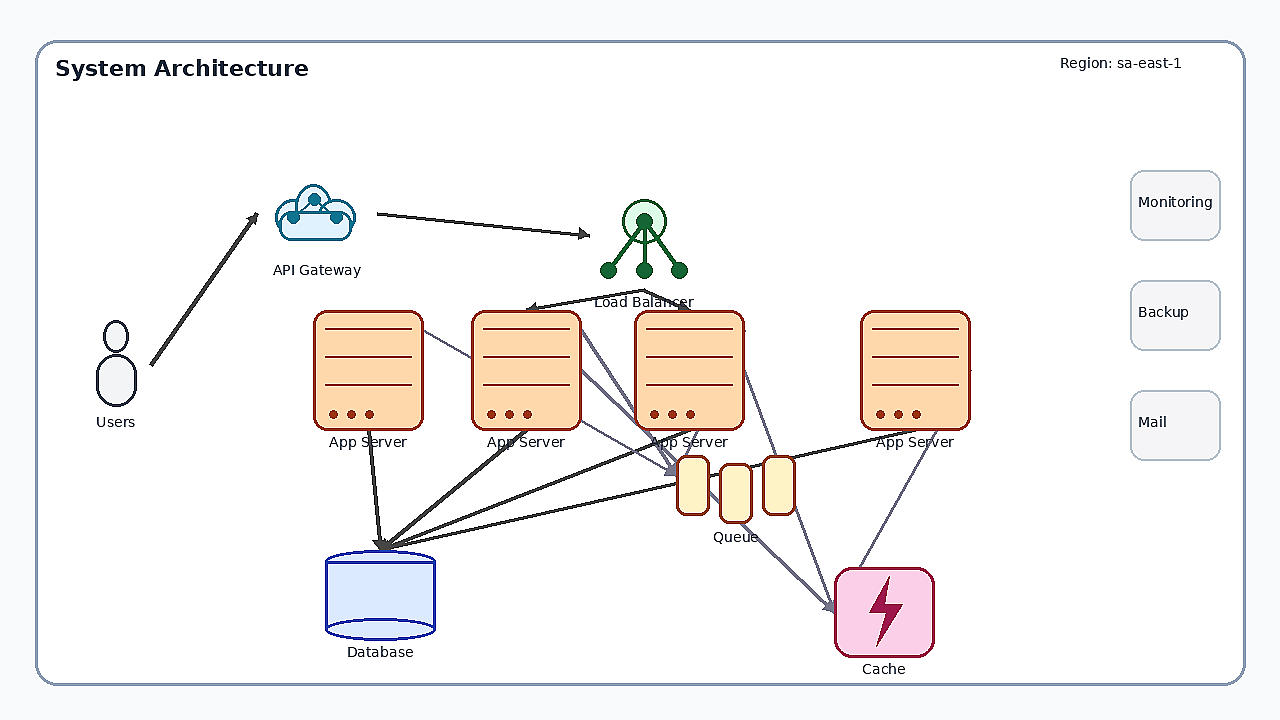API Gateway: (257, 168, 377, 258)
Application Server: (860, 310, 970, 430), (471, 310, 581, 430), (634, 310, 744, 430), (313, 310, 423, 430)
Cache: (834, 567, 934, 657)
Database: (325, 550, 435, 640)
Load Balancer: (589, 180, 699, 290)
Message Queue: (676, 455, 796, 525)
User: (81, 320, 151, 410)
